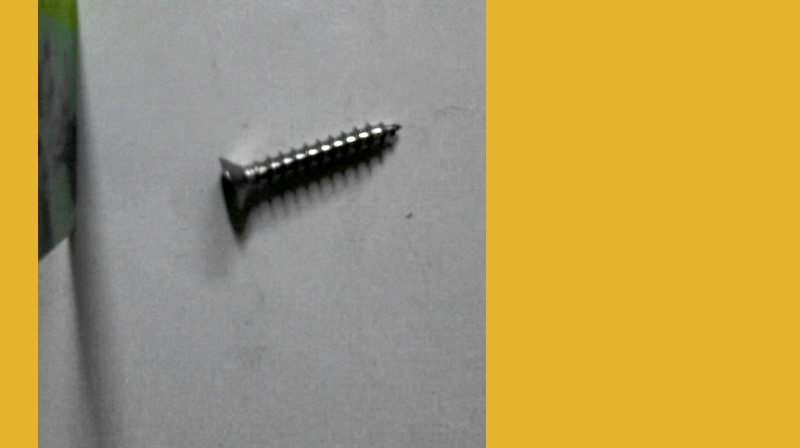S001: (216, 118, 404, 206)
